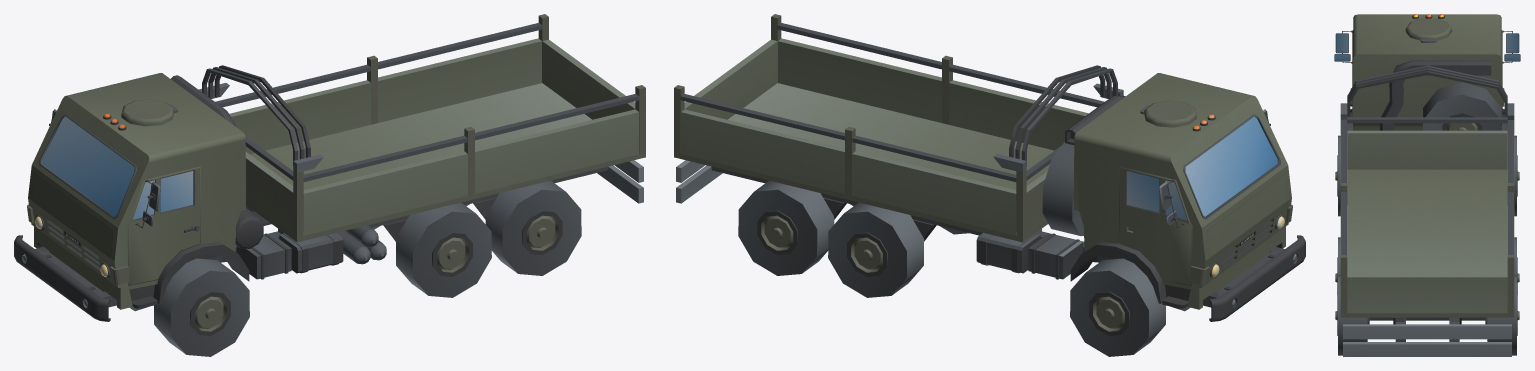
The model's file is SM_Truck.glb.
3 renders of one model, left to right at view 1: azimuth 30°, elevation 25°; view 2: azimuth 150°, elevation 25°; view 3: azimuth 270°, elevation 25°, orthographic. The views are drawn at different scales.
Visible parts, largest first — view 1: KAMAZ_5350_0; view 2: KAMAZ_5350_0; view 3: KAMAZ_5350_0.
Part boxes in pixels (left/top/right/bottom): KAMAZ_5350_0: left=14, top=14, right=645, bottom=356; KAMAZ_5350_0: left=674, top=14, right=1305, bottom=356; KAMAZ_5350_0: left=1334, top=14, right=1520, bottom=356.
Size of the model in its own units: 7.96 by 3.03 by 2.76.
Materials: 1 (1 with a texture image).
